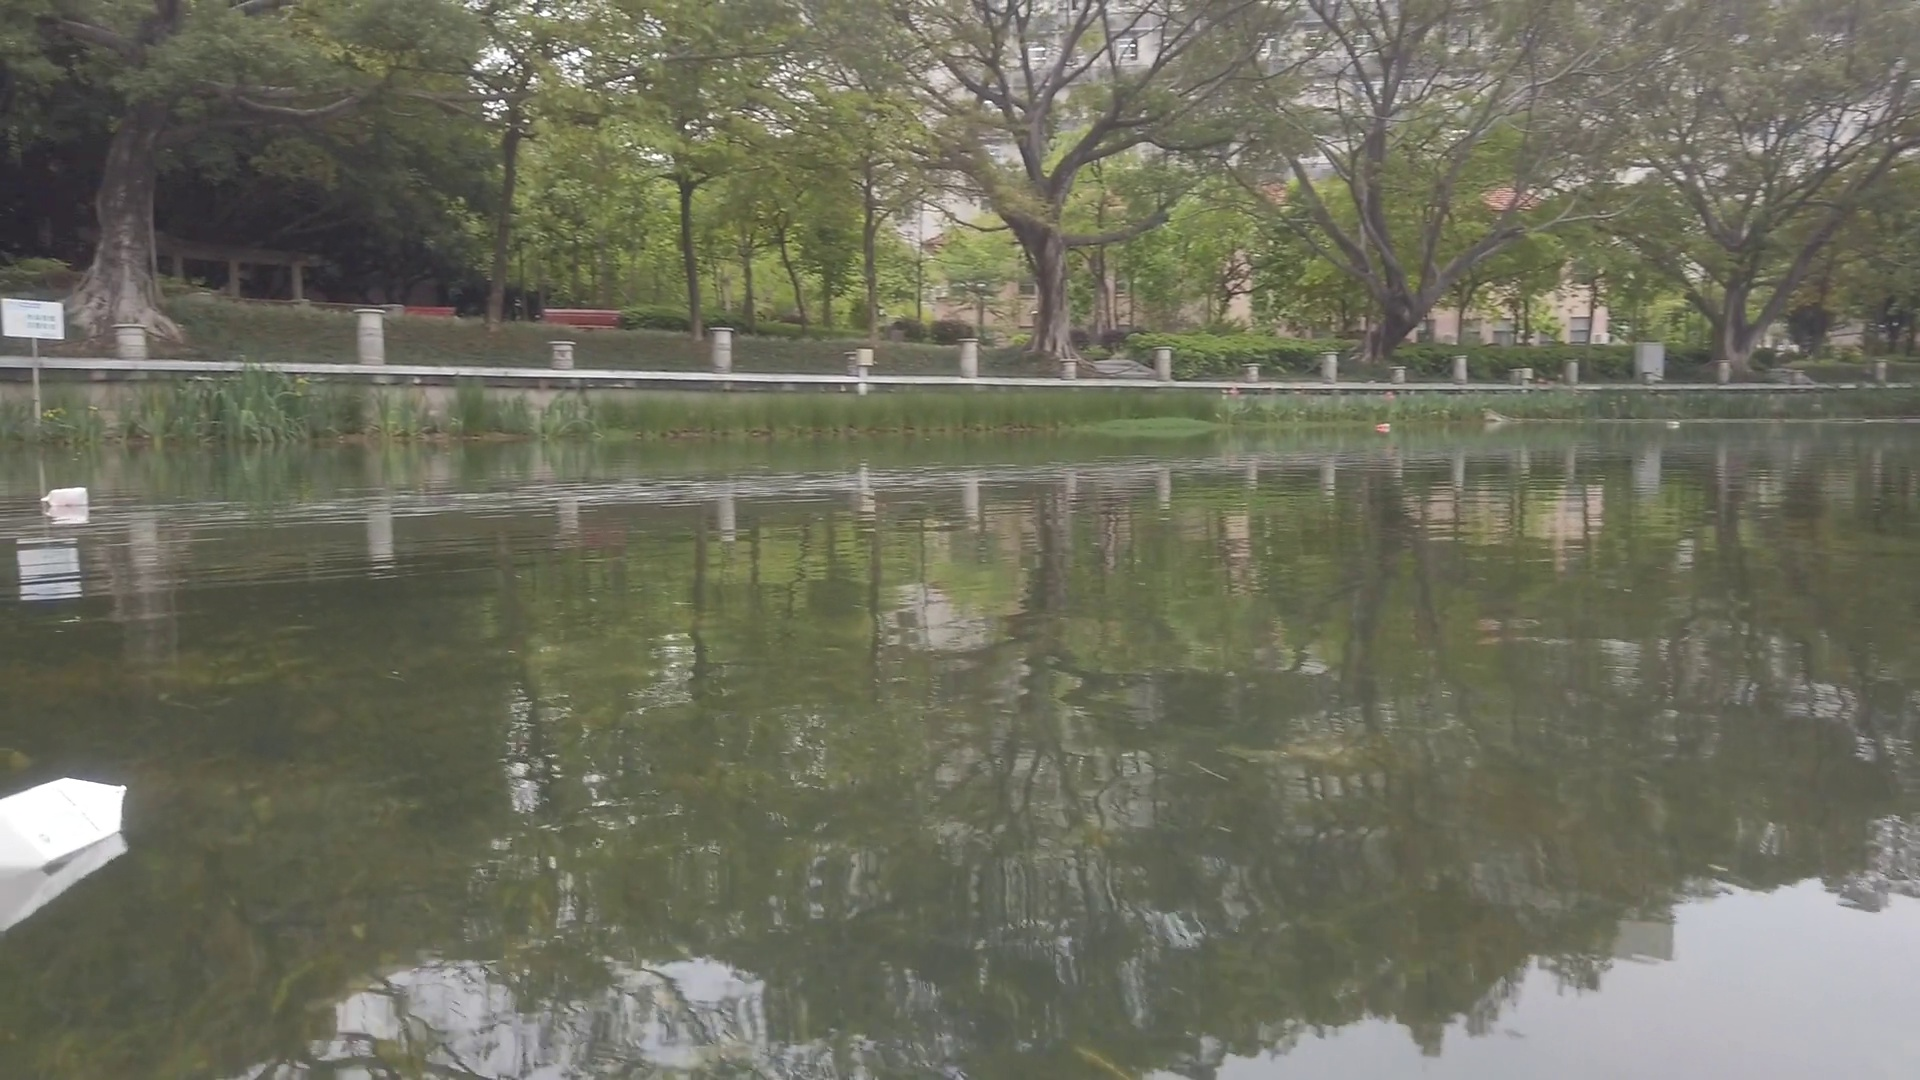bottle: (1665, 421, 1679, 429), (1375, 423, 1389, 430)
carton: (1, 775, 132, 872), (41, 483, 88, 504)
